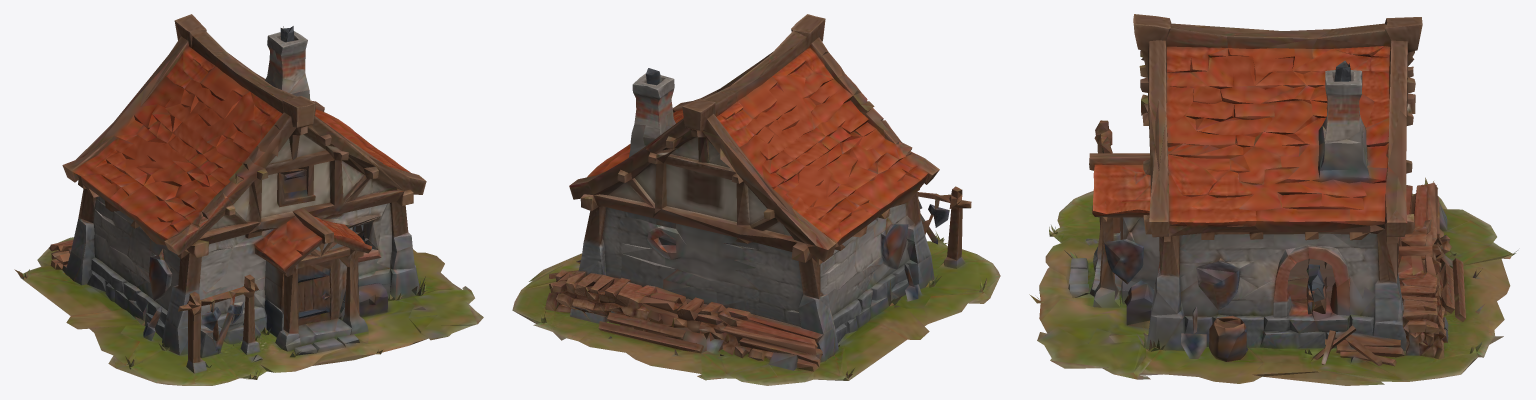
The model's file is barracks.glb.
3 renders of one model, left to right at view 1: azimuth 30°, elevation 25°; view 2: azimuth 150°, elevation 25°; view 3: azimuth 270°, elevation 25°, orthographic. The views are drawn at different scales.
Size of the model in its own units: 1.85 by 1.12 by 1.88.
1 material, 1 textured.
